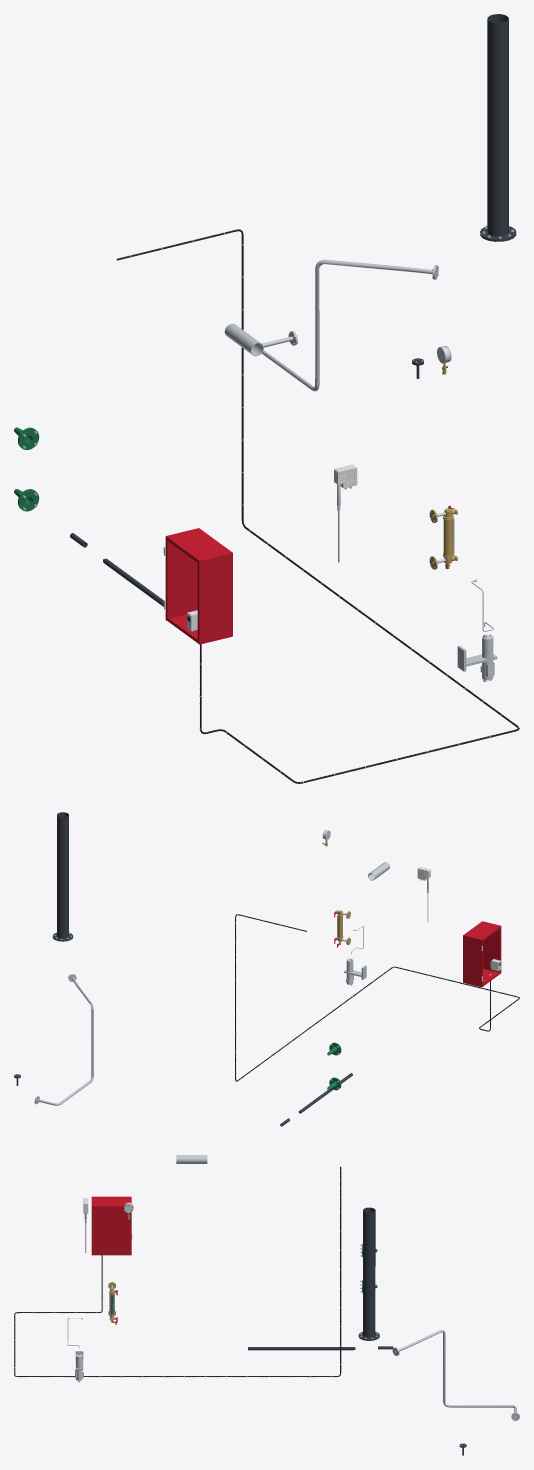
3 views of the same model, one above another, from view 1: azimuth 30°, elevation 25°; view 2: azimuth 150°, elevation 25°; view 3: azimuth 270°, elevation 25° (orthographic). The views are drawn at different scales.
Visible parts, largest first — view 1: control_cabinet / control_cabinet_0.npz, bdv_vent / dark, mod_eco_drive_cable / black, trap_gap_to_bdv / steel, sight_glasses_1 / sight_glasses_1_0.npz; view 2: control_cabinet / control_cabinet_0.npz, bdv_vent / dark, mod_eco_drive_cable / black, trap_gap_to_bdv / steel; view 3: control_cabinet / control_cabinet_0.npz, bdv_vent / dark, mod_eco_drive_cable / black, trap_gap_to_bdv / steel, bottom_piping / dark.
Boxes of the visible parts, box(x1,y1,x2,y2) form: control_cabinet / control_cabinet_0.npz: box(163, 528, 232, 644); bdv_vent / dark: box(480, 14, 516, 241); mod_eco_drive_cable / black: box(116, 229, 519, 783); trap_gap_to_bdv / steel: box(262, 259, 438, 391); sight_glasses_1 / sight_glasses_1_0.npz: box(429, 505, 457, 569); control_cabinet / control_cabinet_0.npz: box(463, 921, 501, 987); bdv_vent / dark: box(52, 812, 73, 941); mod_eco_drive_cable / black: box(235, 914, 519, 1081); trap_gap_to_bdv / steel: box(34, 974, 93, 1105); control_cabinet / control_cabinet_0.npz: box(91, 1196, 132, 1255); bdv_vent / dark: box(358, 1207, 379, 1340); mod_eco_drive_cable / black: box(14, 1166, 341, 1376); trap_gap_to_bdv / steel: box(392, 1329, 519, 1420); bottom_piping / dark: box(248, 1347, 355, 1350).
Size of the model in its own units: 5 by 3.76 by 6.74.
